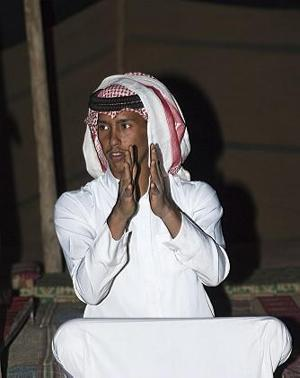person: (55, 68, 233, 322)
